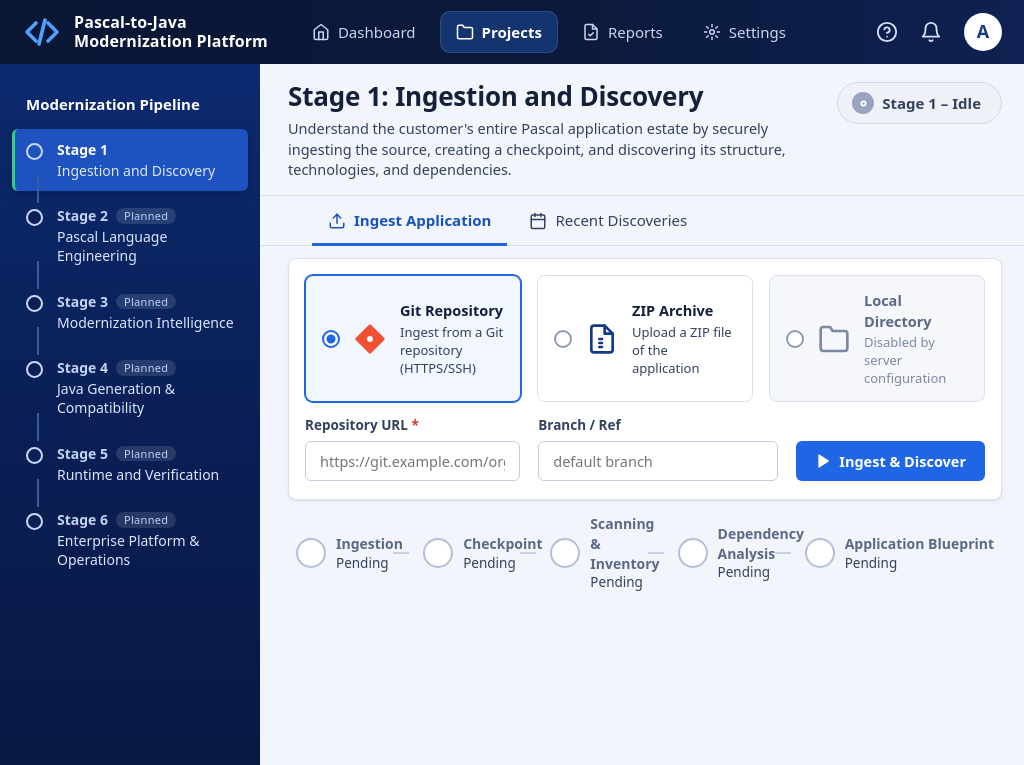
Git form › submits trimmed URL with null ref, then polls and shows the blueprint
In the field labelled "Repository URL *": (413, 461) [305,441,520,481], type " https://git.example.com/a.git "
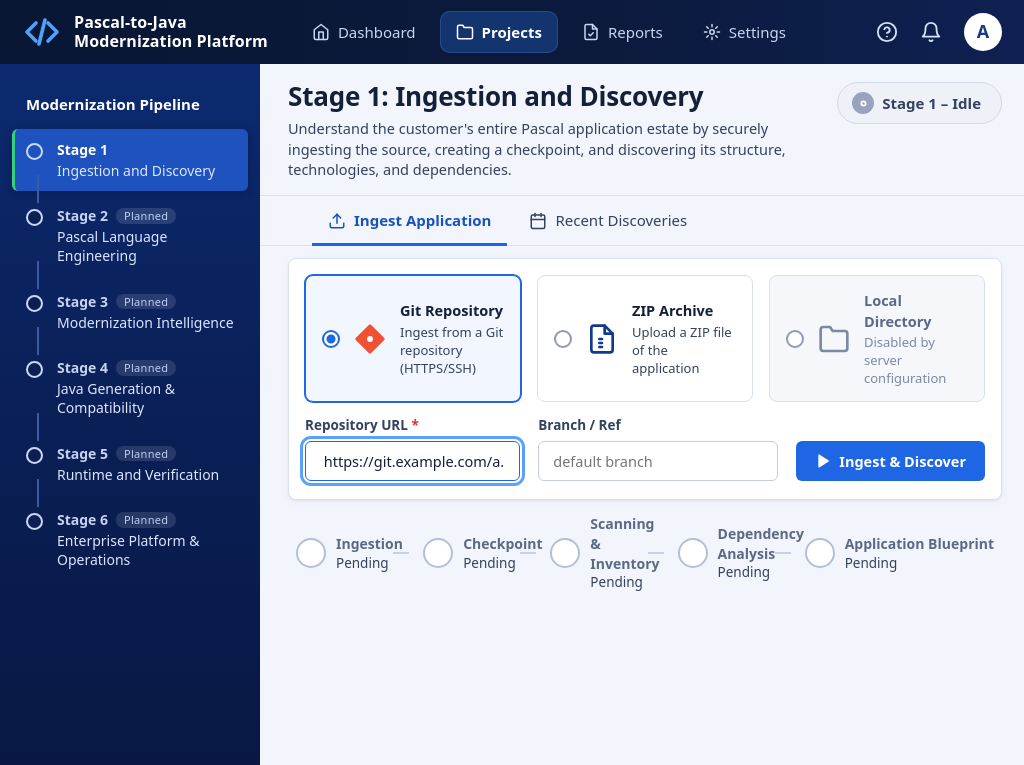
Click the button "Ingest & Discover": (891, 461) [796,441,985,481]
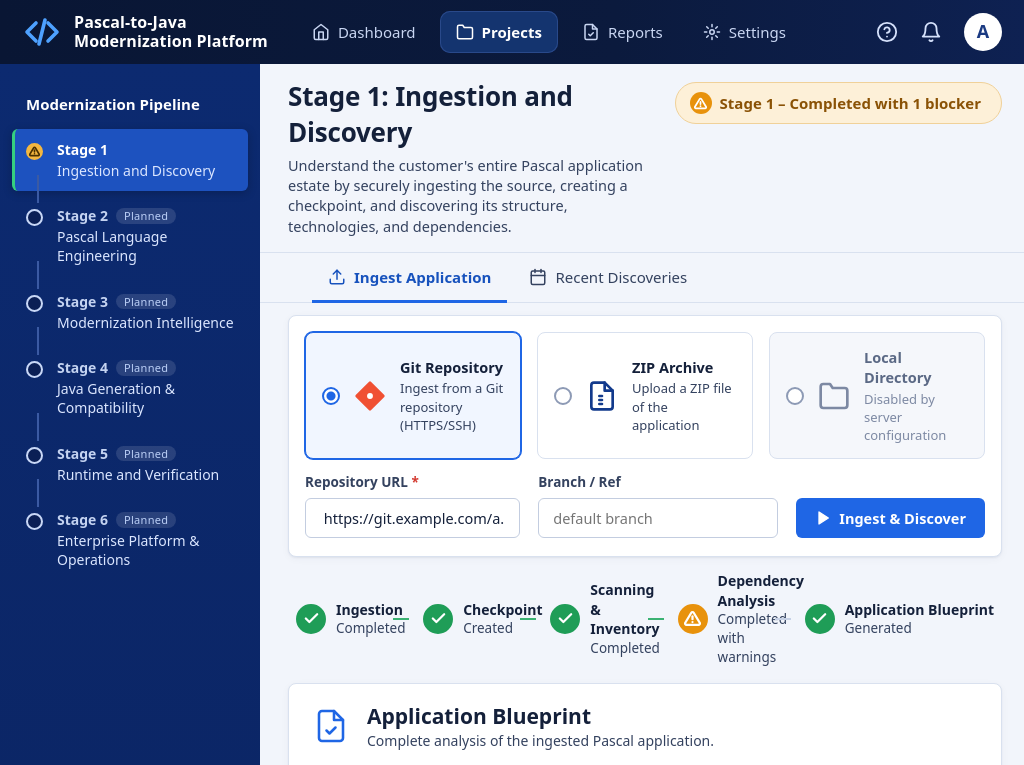
Check: the heading "Application Blueprint" is shown, box [367,702,591,730]
Check: the text "Stage 1 – Completed with 1 blocker" is shown, box [720,92,981,114]
Check: the text "Created" is shown, box [463,619,492,638]
